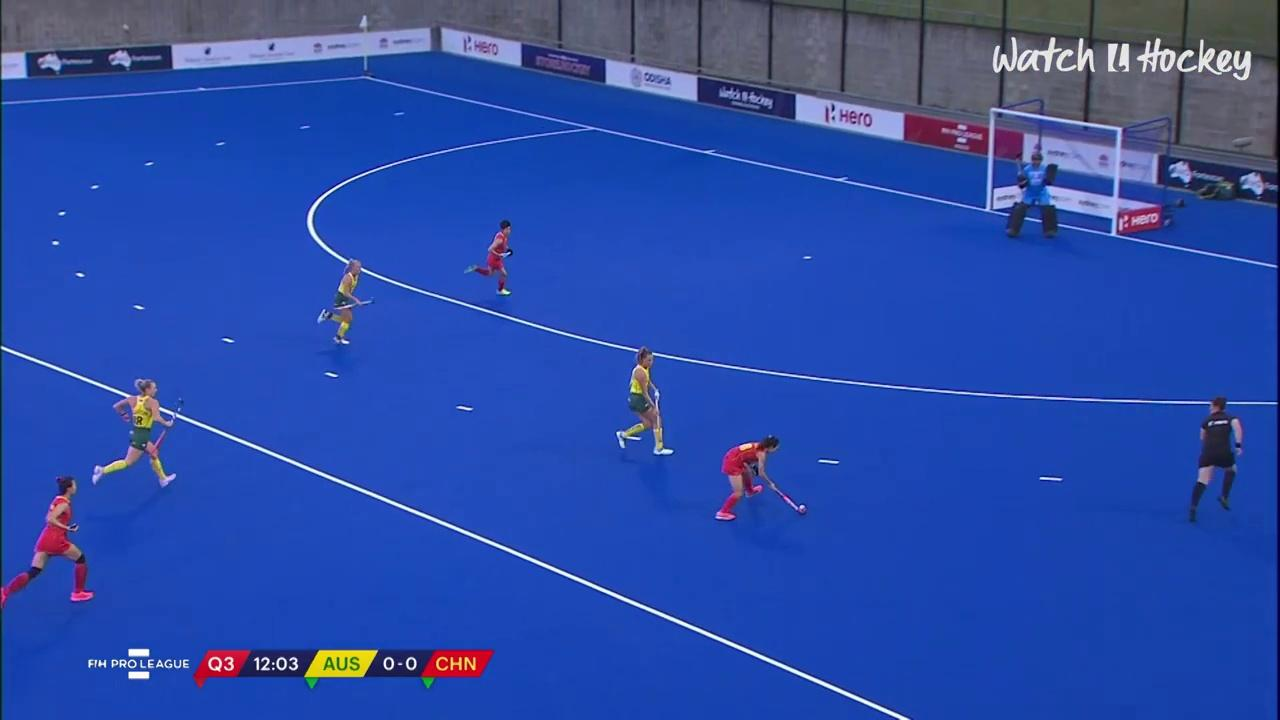ball: (790, 491, 814, 519)
